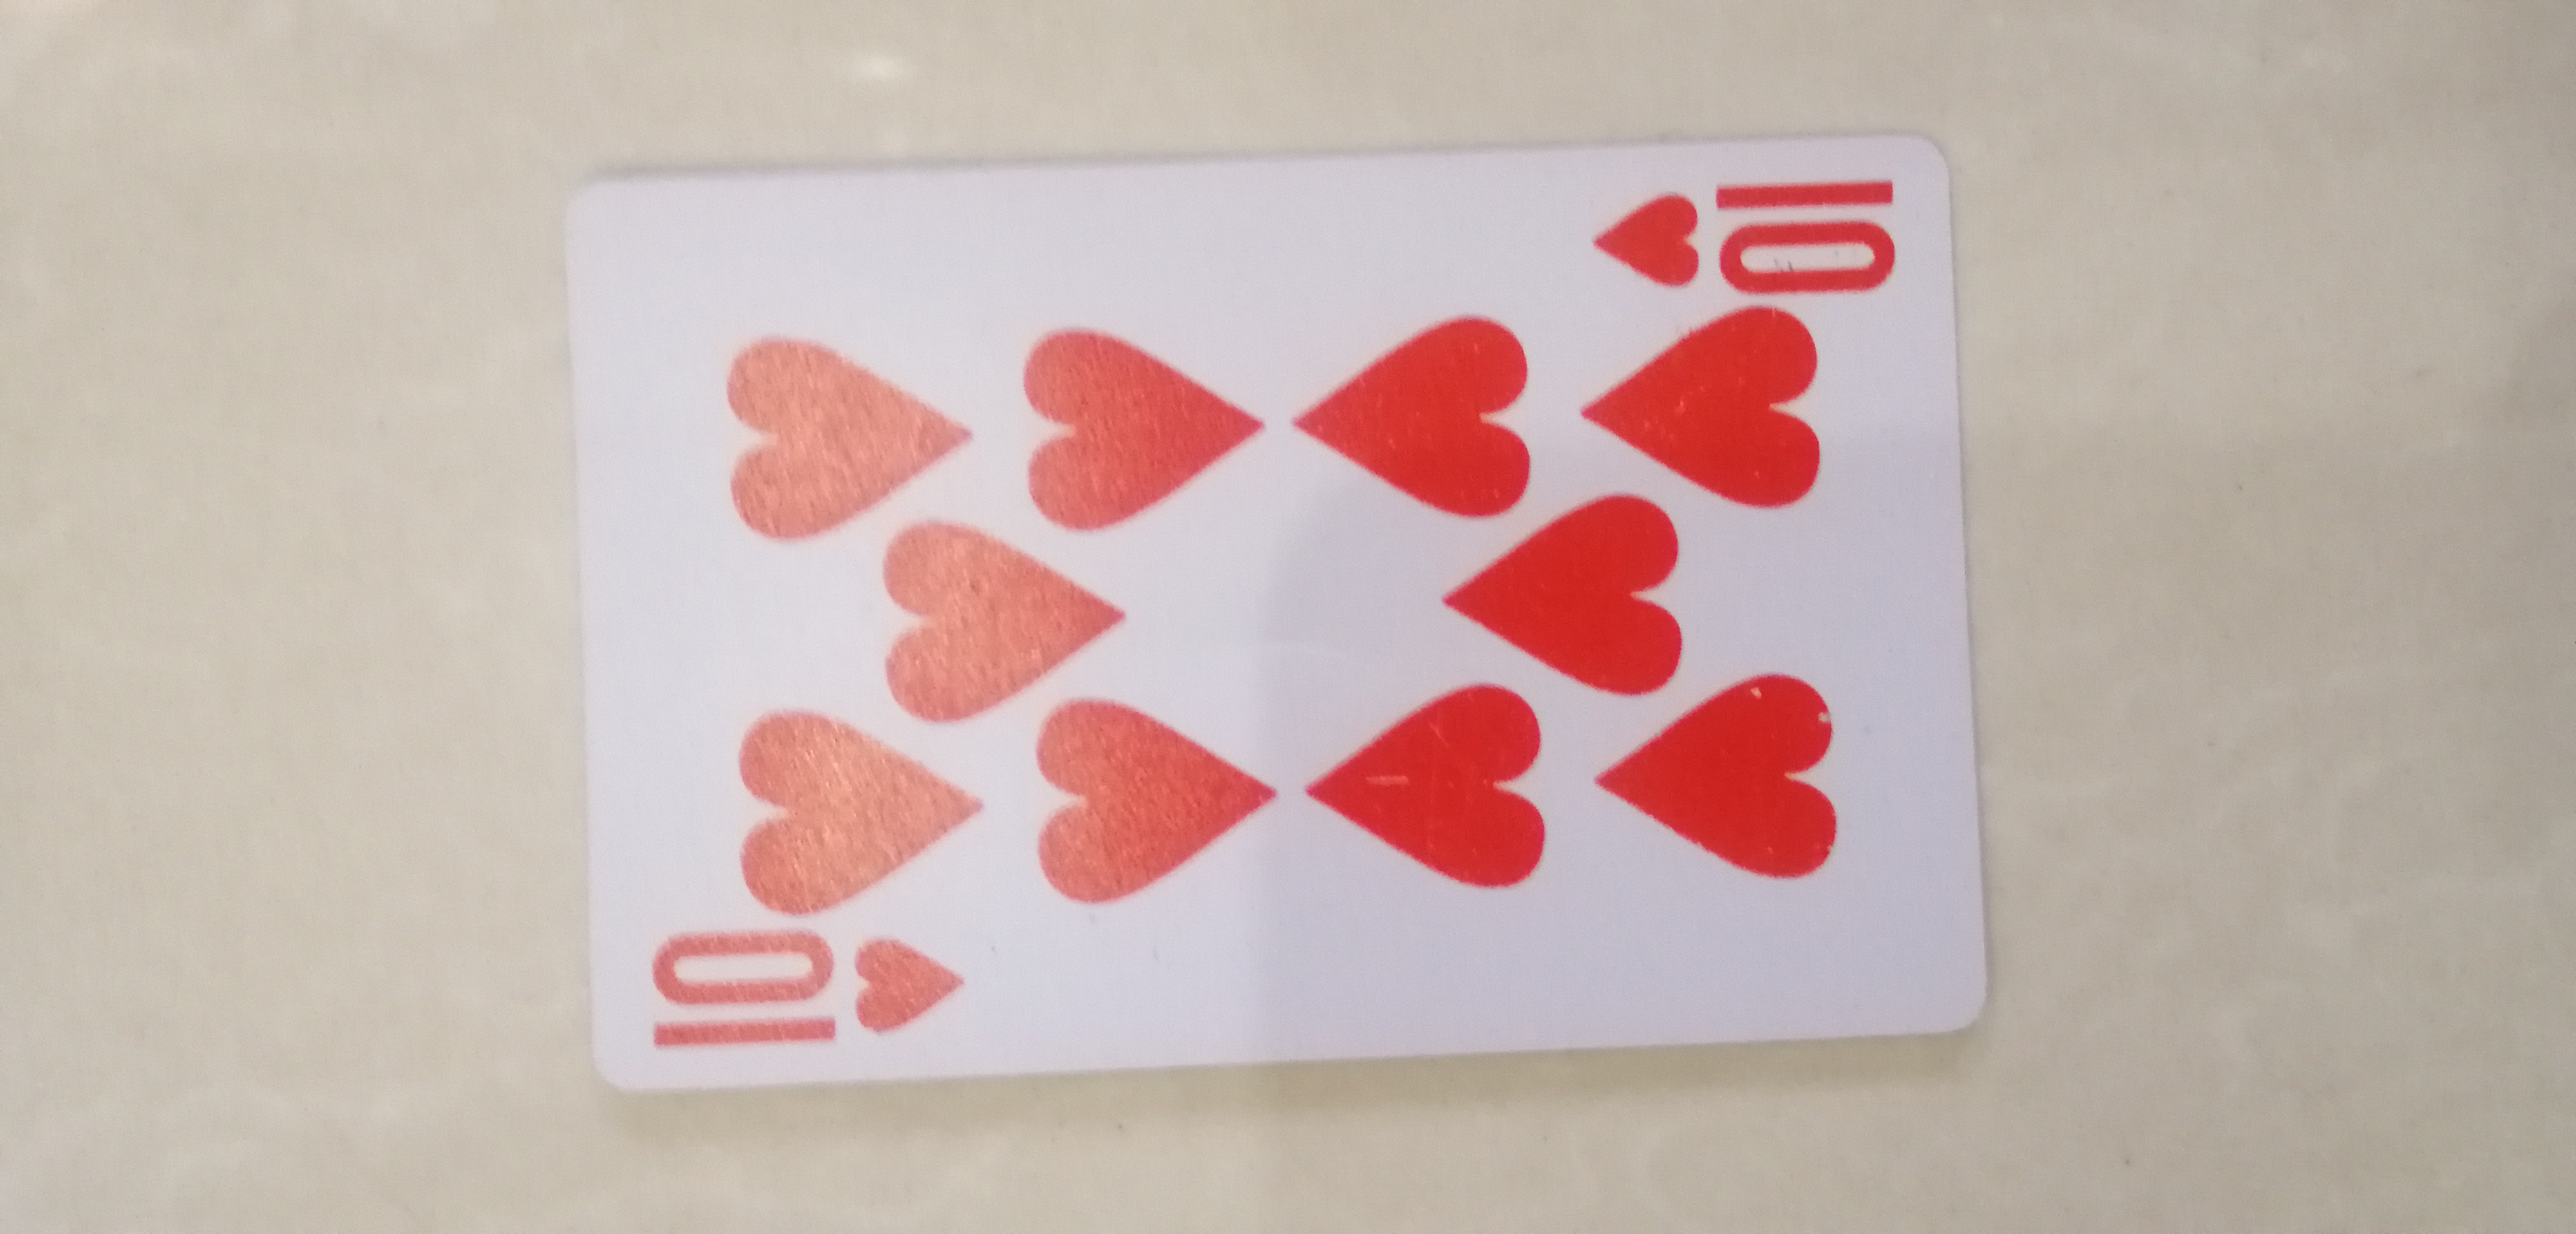queen: (503, 136, 2022, 1127)
